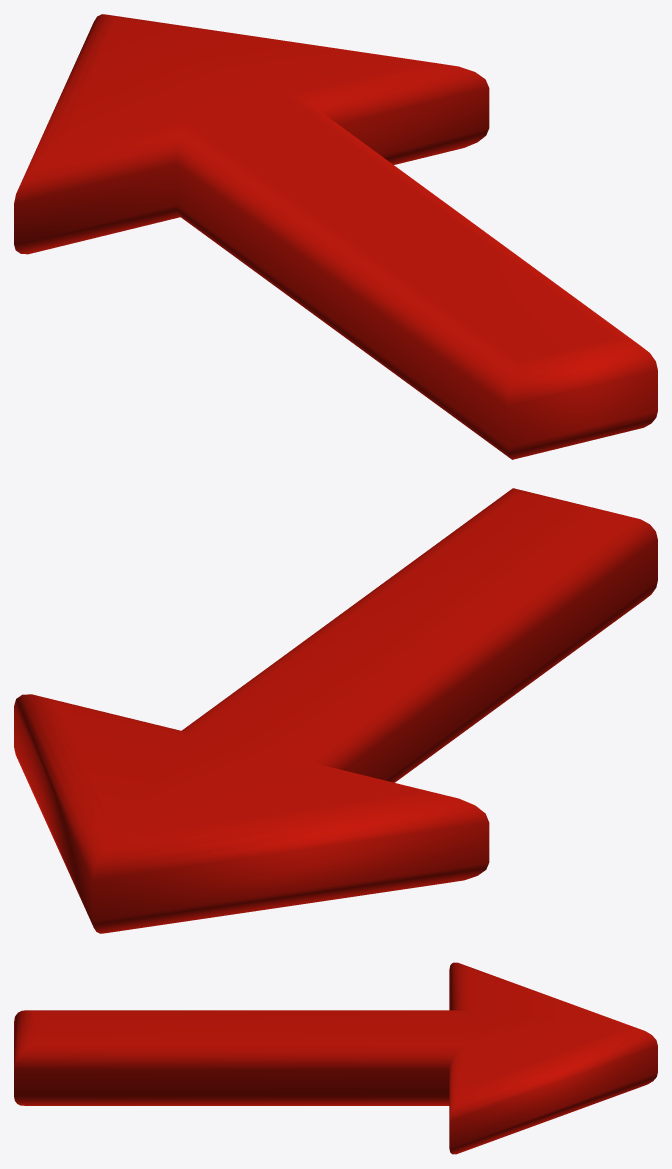
Rendered from yajirushi2.glb.
3 renders of one model, top to bottom at view 1: azimuth 30°, elevation 25°; view 2: azimuth 150°, elevation 25°; view 3: azimuth 270°, elevation 25°, orthographic. The views are drawn at different scales.
Parts seen in each view (by area): view 1: Plane; view 2: Plane; view 3: Plane.
Part boxes in pixels (x1,y1,x2,y2): Plane: (14,14,657,459); Plane: (14,488,657,933); Plane: (14,962,657,1154).
Size of the model in its own units: 1.85 by 0.3402 by 3.31.
